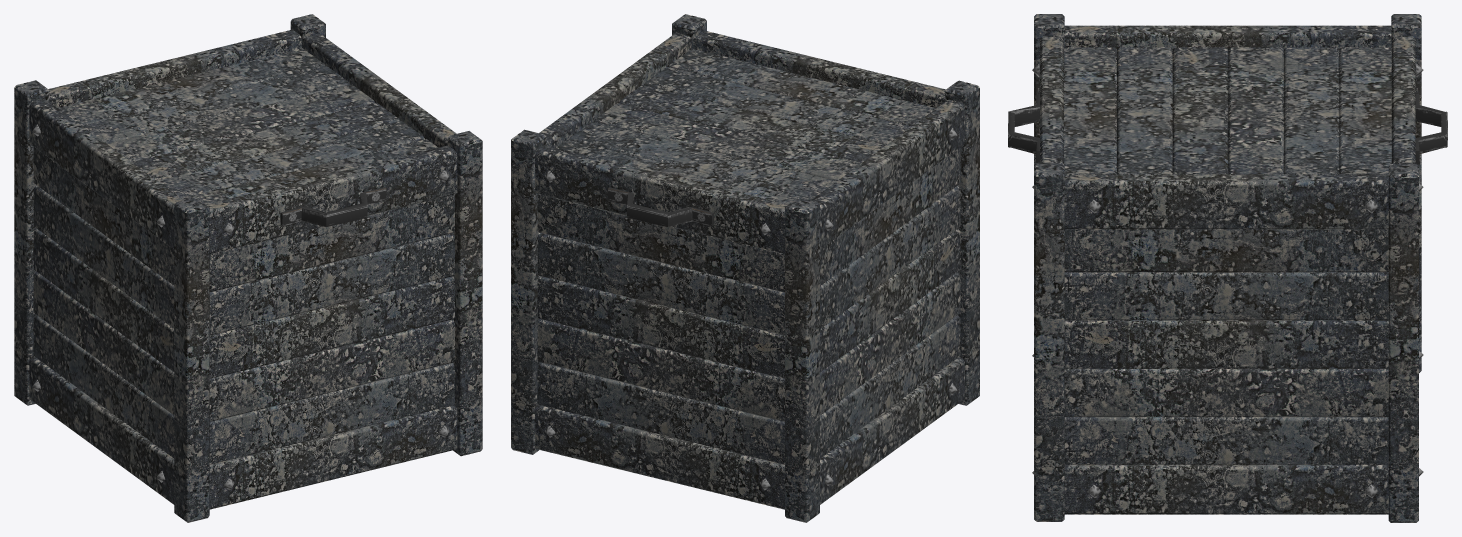
The picture shows the model from 3 angles, left to right: view 1: azimuth 30°, elevation 25°; view 2: azimuth 150°, elevation 25°; view 3: azimuth 270°, elevation 25°; orthographic projection. The views are drawn at different scales.
Visible parts, largest first — view 1: SM_box_01_LOD0; view 2: SM_box_01_LOD0; view 3: SM_box_01_LOD0.
Part boxes in pixels (x1=…): SM_box_01_LOD0: x1=14, y1=14, x2=482, y2=522; SM_box_01_LOD0: x1=511, y1=14, x2=979, y2=522; SM_box_01_LOD0: x1=1008, y1=14, x2=1447, y2=522.
Bounding box in the file's own units: 215 × 241 × 211.
